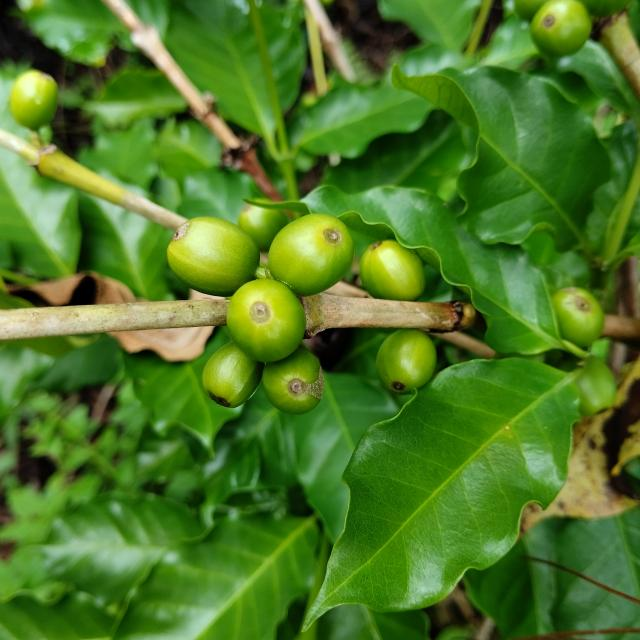green: (167, 217, 260, 296), (268, 213, 354, 296), (227, 279, 306, 363), (262, 348, 324, 415), (202, 342, 264, 408), (376, 329, 437, 394), (360, 240, 425, 301), (531, 0, 593, 56), (553, 287, 605, 347), (9, 69, 57, 130), (238, 204, 288, 251)
